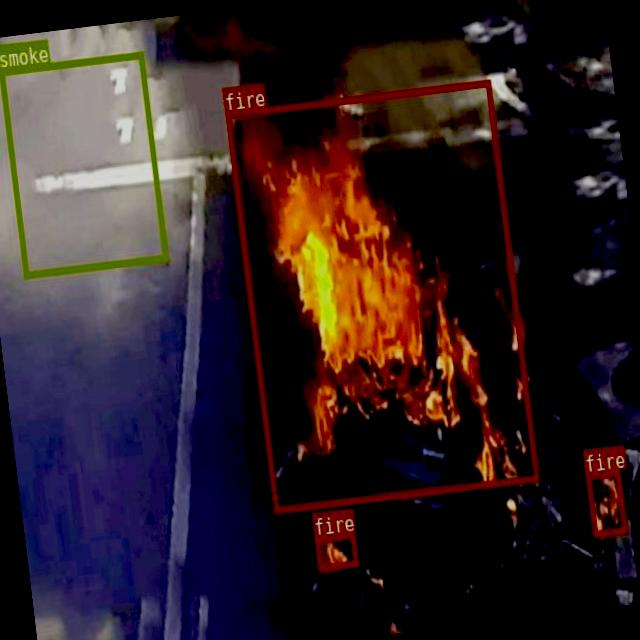fire: (224, 79, 538, 512), (584, 468, 628, 537), (314, 531, 358, 571)
smoke: (0, 50, 167, 277)
